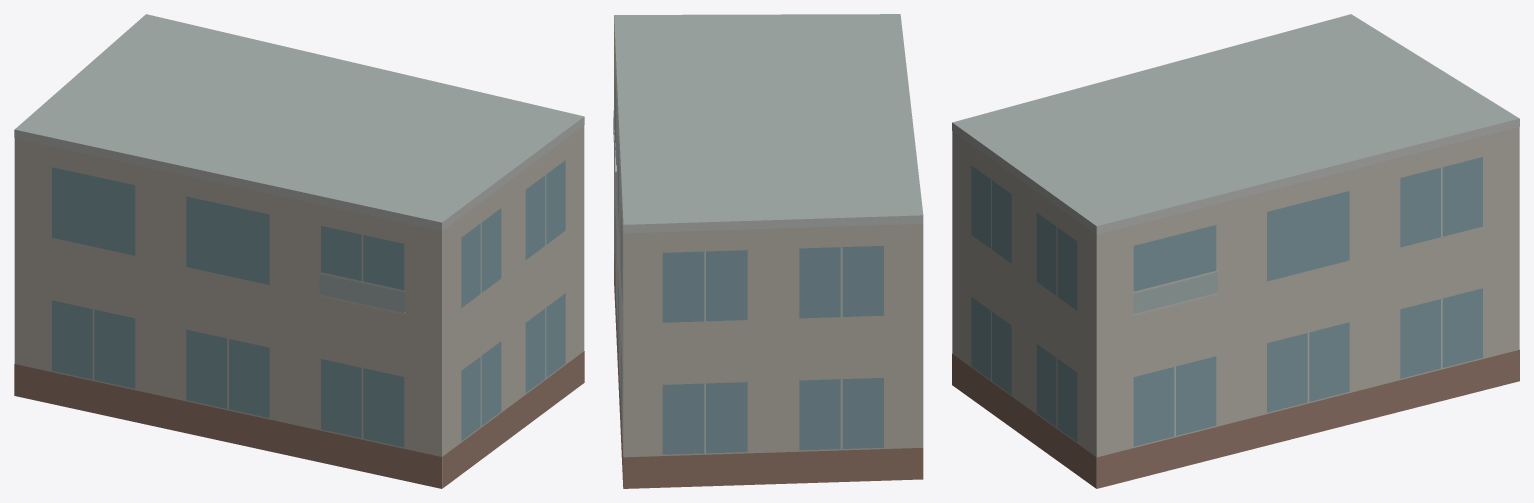
The model's file is survey-upis-32624858.glb.
The picture shows the model from 3 angles, left to right: view 1: azimuth 30°, elevation 25°; view 2: azimuth 150°, elevation 25°; view 3: azimuth 270°, elevation 25°; orthographic projection.
Visible parts, largest first — view 1: survey-upis-32624858.tmp; view 2: survey-upis-32624858.tmp; view 3: survey-upis-32624858.tmp.
Part boxes in pixels (box(x1,y1,x2,y2)): survey-upis-32624858.tmp: box(14, 14, 584, 488); survey-upis-32624858.tmp: box(613, 14, 923, 488); survey-upis-32624858.tmp: box(952, 14, 1519, 488).
Size of the model in its own units: 13.18 by 7.6 by 14.89.
